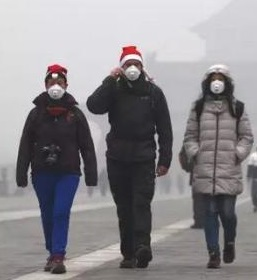person: (85, 44, 175, 270), (15, 63, 99, 275), (178, 64, 255, 271), (99, 168, 110, 197), (177, 172, 187, 194)
